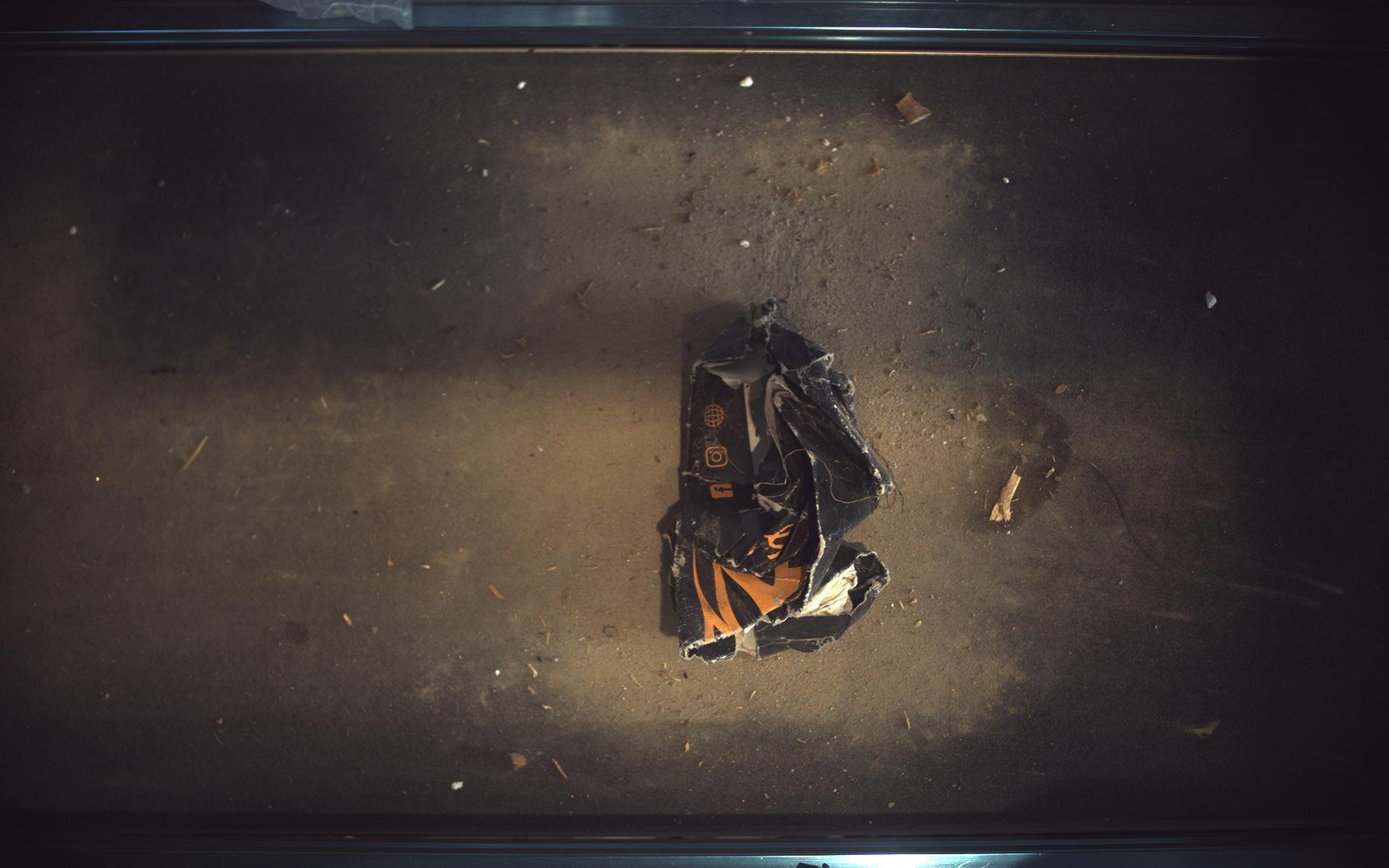general_w: (662, 299, 895, 663)
